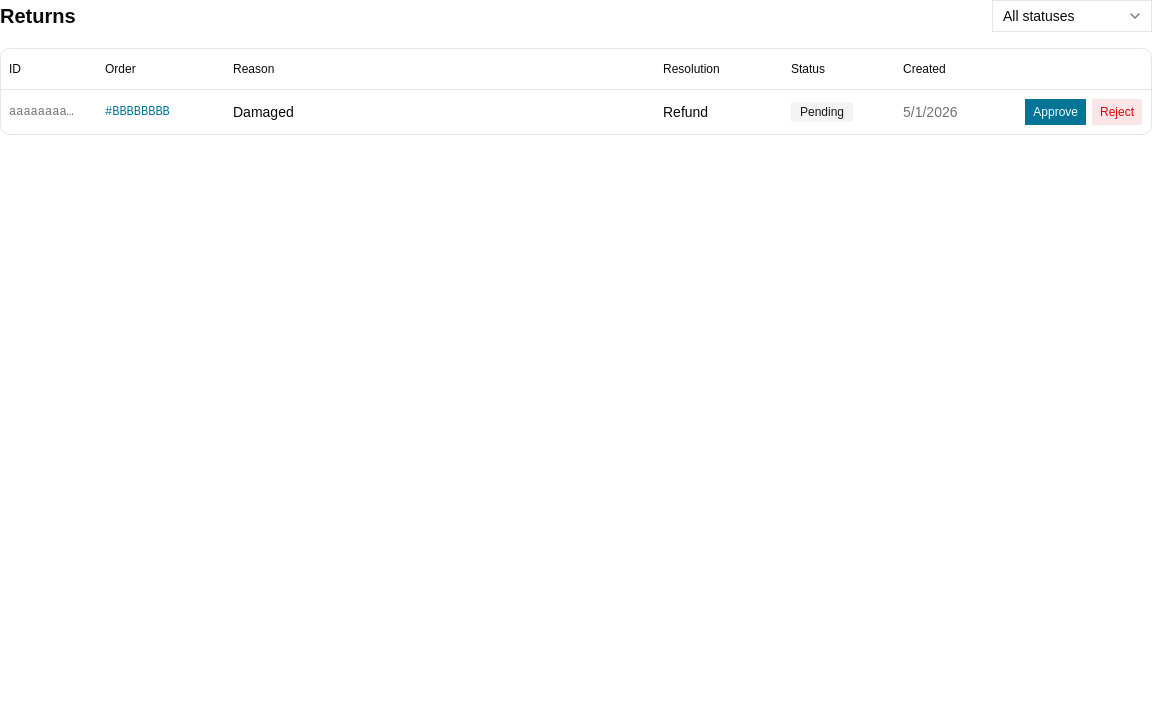
Test: ReturnsPage — approve/reject dialog › opens reject dialog when Reject is clicked
Click the button "Reject".
click(1117, 112)  # box x1=1091 y1=98 x2=1143 y2=126
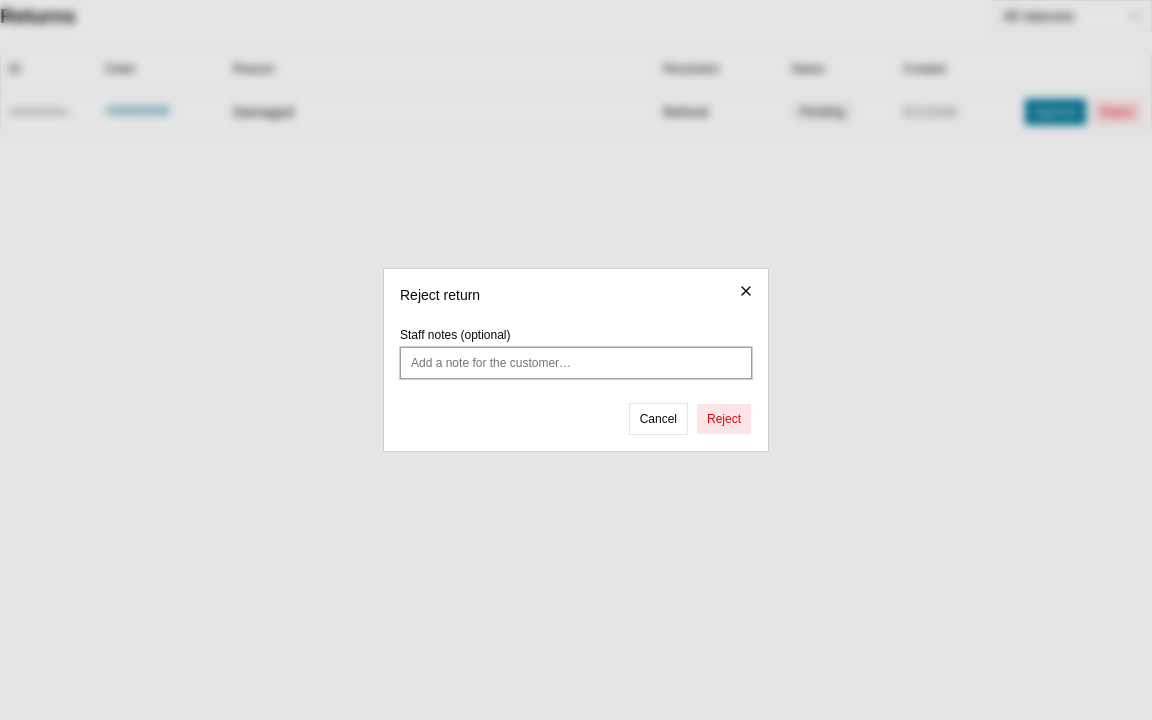
Expected: the dialog is shown, x1=384 y1=269 x2=768 y2=451
Expected: the heading "Reject return" is shown, x1=400 y1=287 x2=480 y2=303
